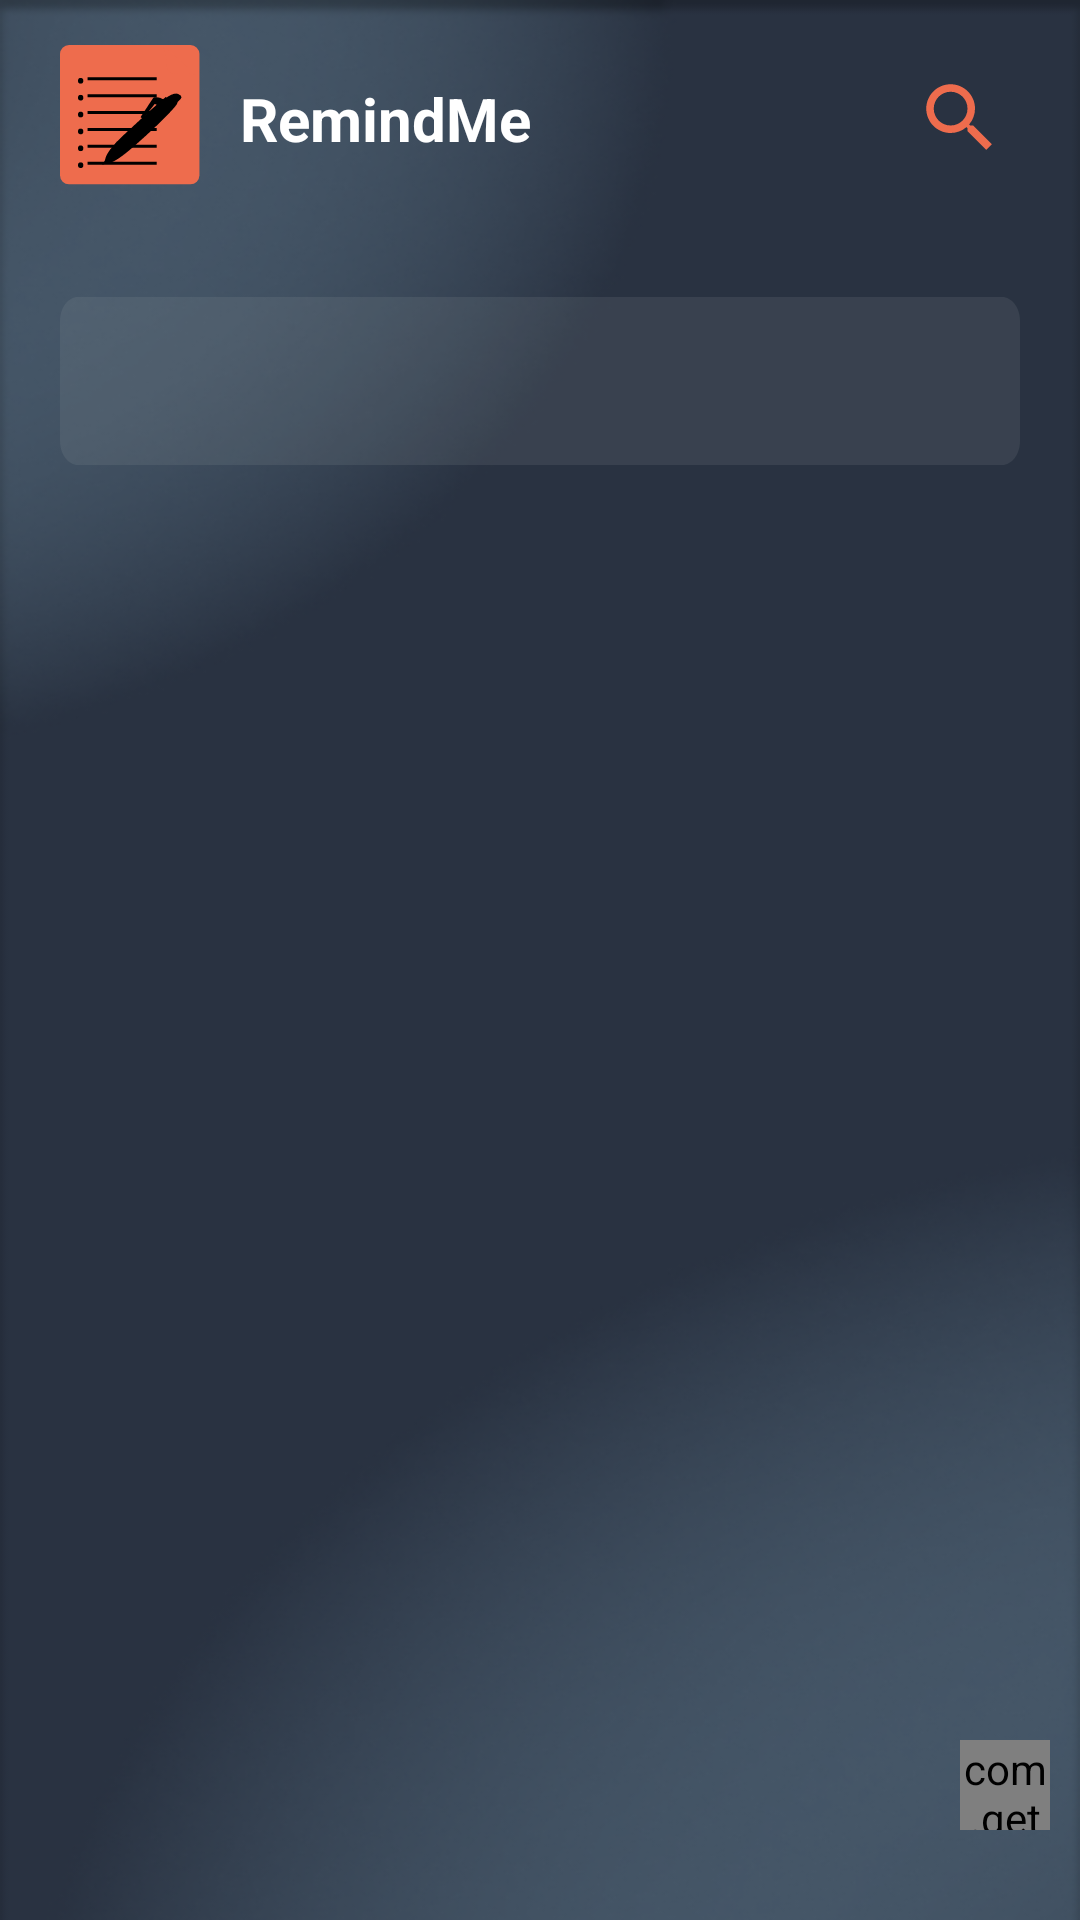

Named icons in this screenshot (1080px×1920px) and their bounding boxes, (x1, y1, x2, y2):
search: (926, 84, 992, 150)
